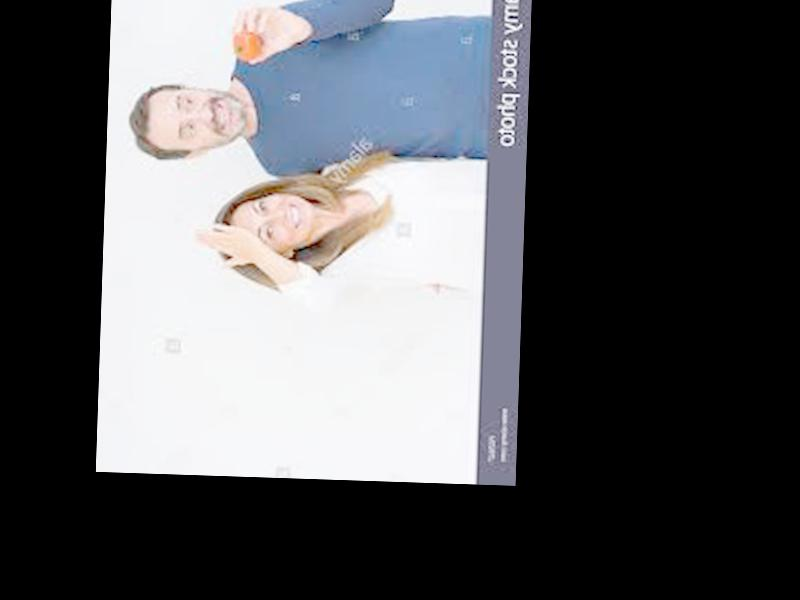Tomato: (229, 31, 261, 60)
